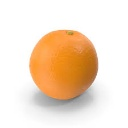orange: (27, 26, 103, 101)
